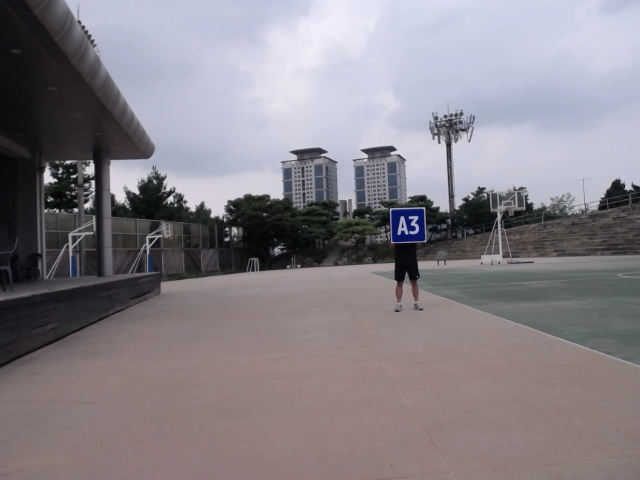delivery_a3: (390, 208, 427, 243)
